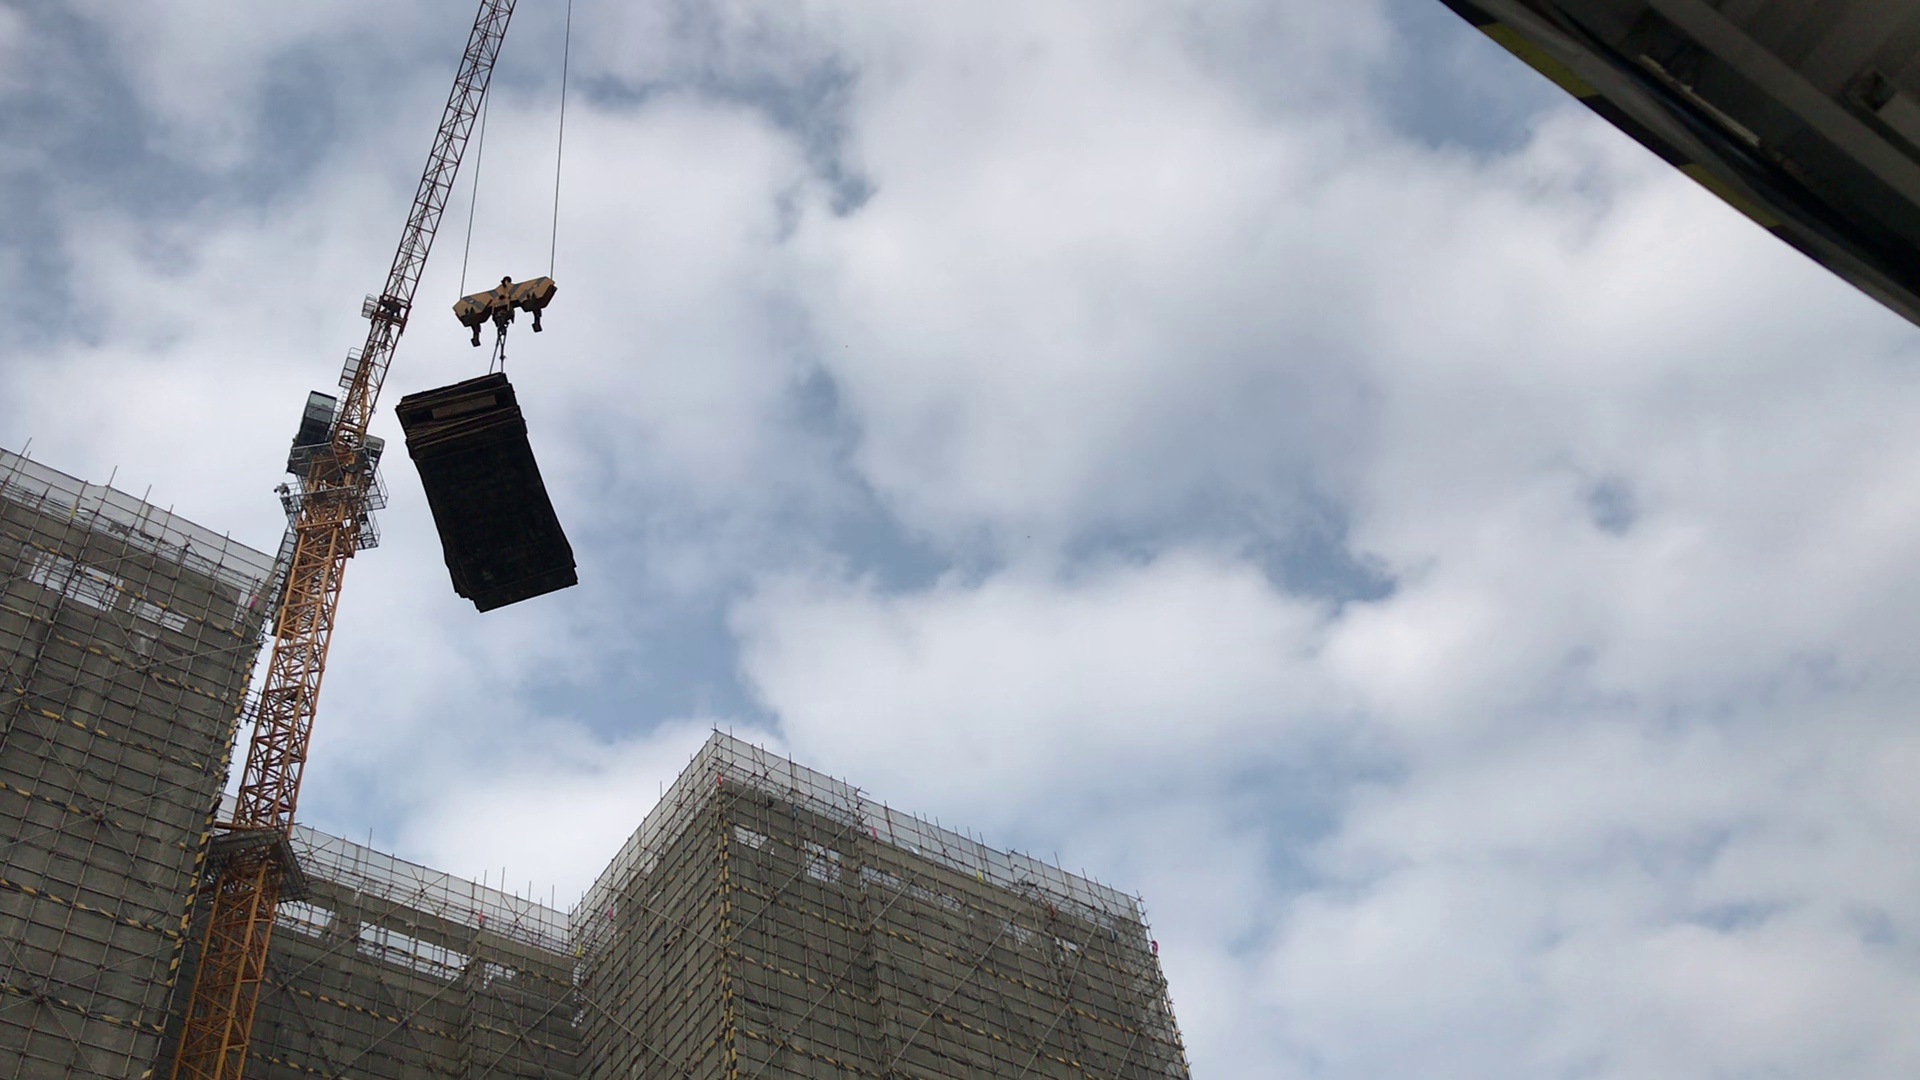board: (392, 367, 578, 620)
hook: (451, 276, 568, 347)
